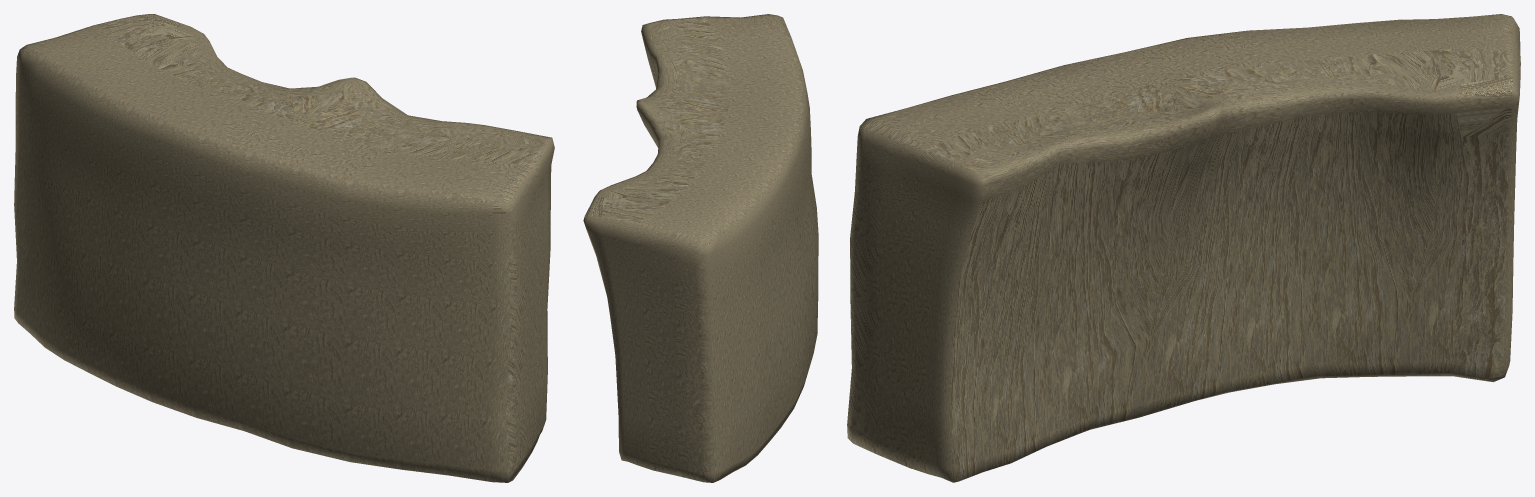
The model's file is saltmine_cliff_turn_02.dae.
3 views of the same model, side by side, from view 1: azimuth 30°, elevation 25°; view 2: azimuth 150°, elevation 25°; view 3: azimuth 270°, elevation 25° (orthographic). The views are drawn at different scales.
Visible parts, largest first — view 1: cliff_turn_1; view 2: cliff_turn_1; view 3: cliff_turn_1.
Boxes of the visible parts, x1=… form: cliff_turn_1: x1=14, y1=14, x2=554, y2=482; cliff_turn_1: x1=583, y1=14, x2=818, y2=482; cliff_turn_1: x1=847, y1=14, x2=1520, y2=482.
Size of the model in its own units: 4.45 by 3.96 by 7.19.
